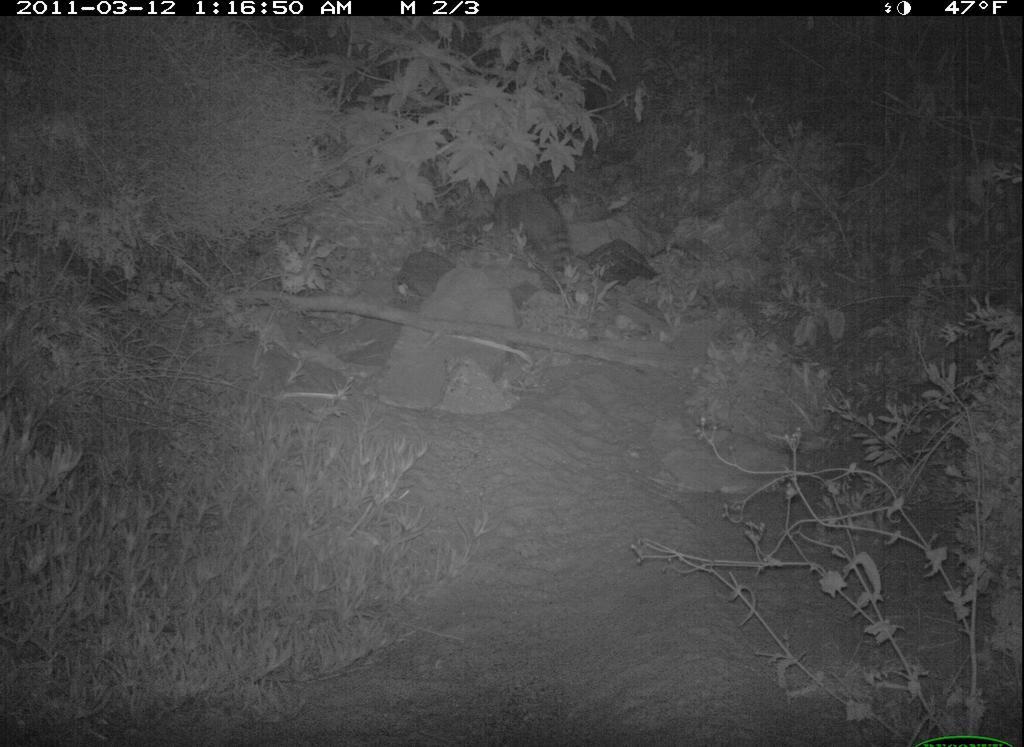raccoon: (482, 175, 586, 294)
